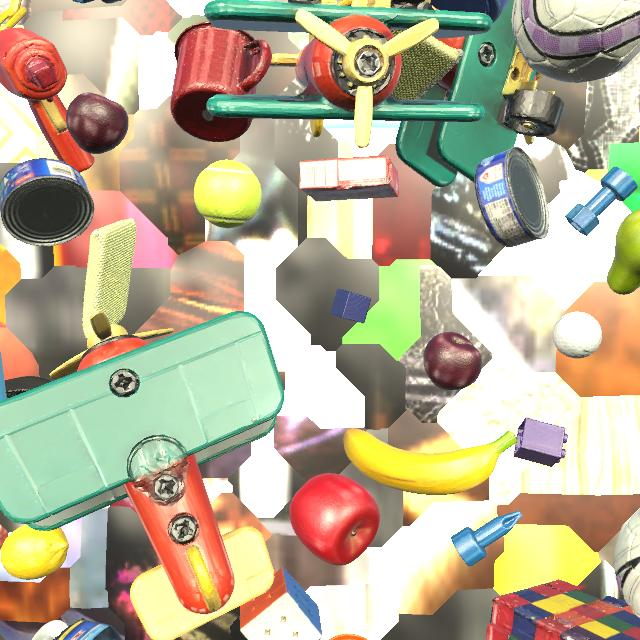ycb_007_tuna_fish_can: (0, 158, 94, 247), (474, 146, 550, 247)
ycb_009_gelatin_box: (299, 156, 399, 202)
ycb_011_banana: (343, 428, 517, 495)
ycb_013_apple: (289, 473, 380, 566)
ycb_014_lemon: (0, 524, 69, 580)
ycb_016_pear: (607, 209, 640, 295)
ycb_018_plum: (66, 92, 129, 154), (423, 332, 482, 391)
